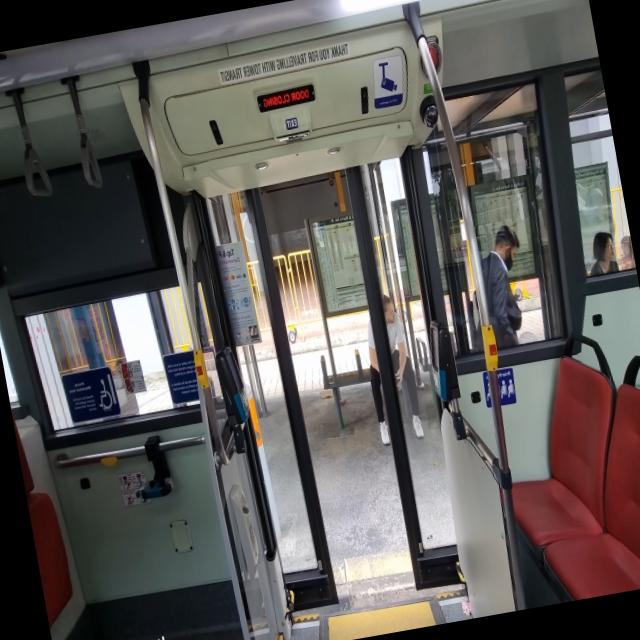bus-door: (206, 189, 337, 608), (345, 158, 457, 589)
